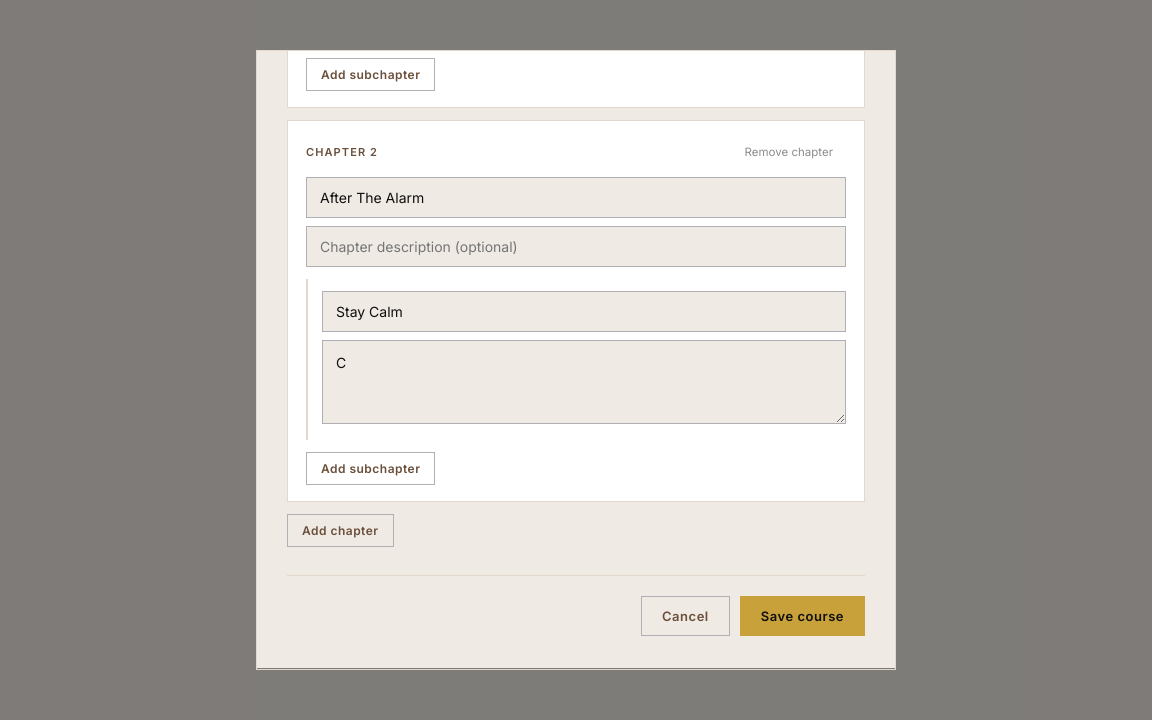
Test case: when saving fails › shows the reason and stays open
This screenshot has width=1152, height=720.
(page scrolled)
Click the button "Save course". click: (802, 616)
box: [740,596,865,636]
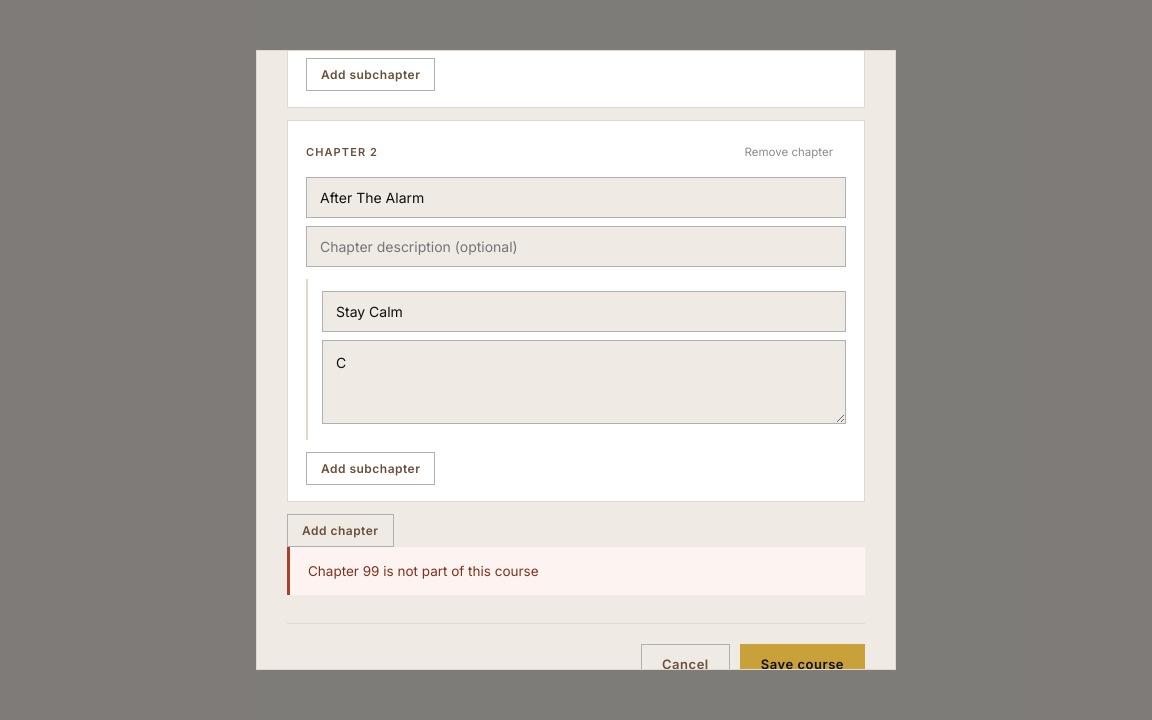
Expected: the text "Chapter 99 is not part of this course" is shown, [308,563,539,579]
